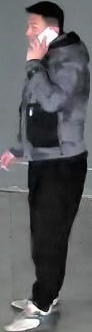phone: (15, 3, 80, 113)
